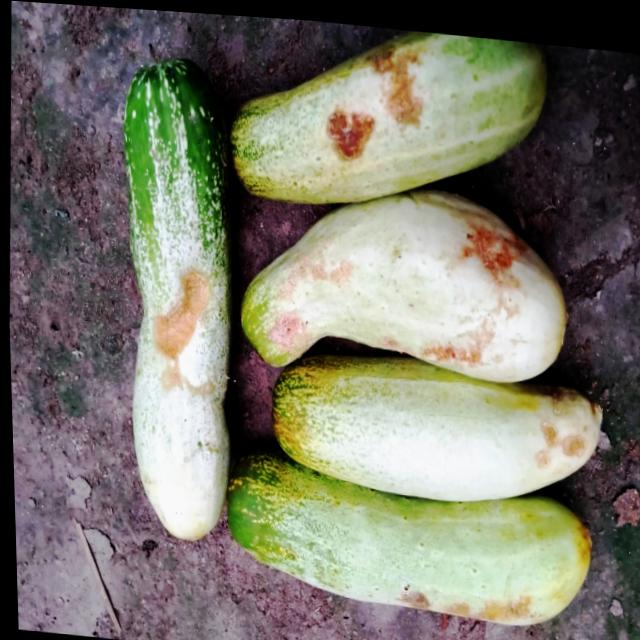Belly-Rot: (418, 212, 530, 368), (319, 24, 429, 168), (142, 255, 223, 411), (255, 234, 352, 361), (395, 571, 528, 621), (521, 376, 587, 475)
